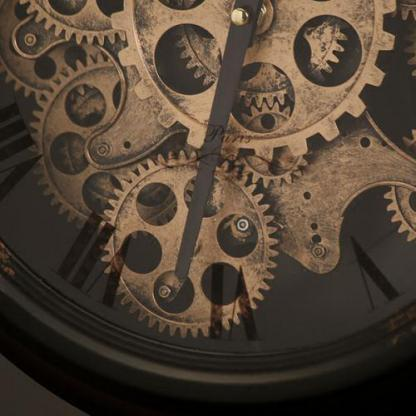FOD: (94, 148, 276, 342)
